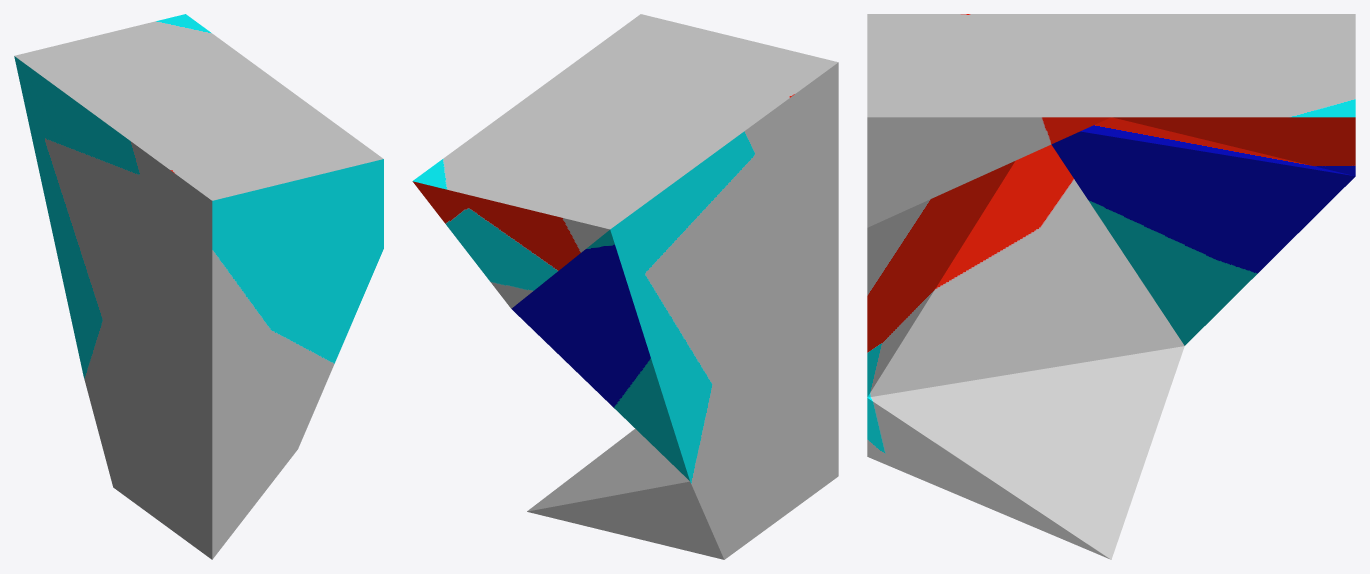
The model's file is CubeFragment2.fbx.
The picture shows the model from 3 angles, left to right: view 1: azimuth 30°, elevation 25°; view 2: azimuth 150°, elevation 25°; view 3: azimuth 270°, elevation 25°; orthographic projection. The views are drawn at different scales.
Parts seen in each view (by area): view 1: CubeFragment2; view 2: CubeFragment2; view 3: CubeFragment2.
Boxes of the visible parts, <box> form: CubeFragment2: <box>14,14,383,559</box>; CubeFragment2: <box>412,14,838,559</box>; CubeFragment2: <box>867,14,1355,559</box>.
Bounding box in the file's own units: 0.5 × 1 × 1.
